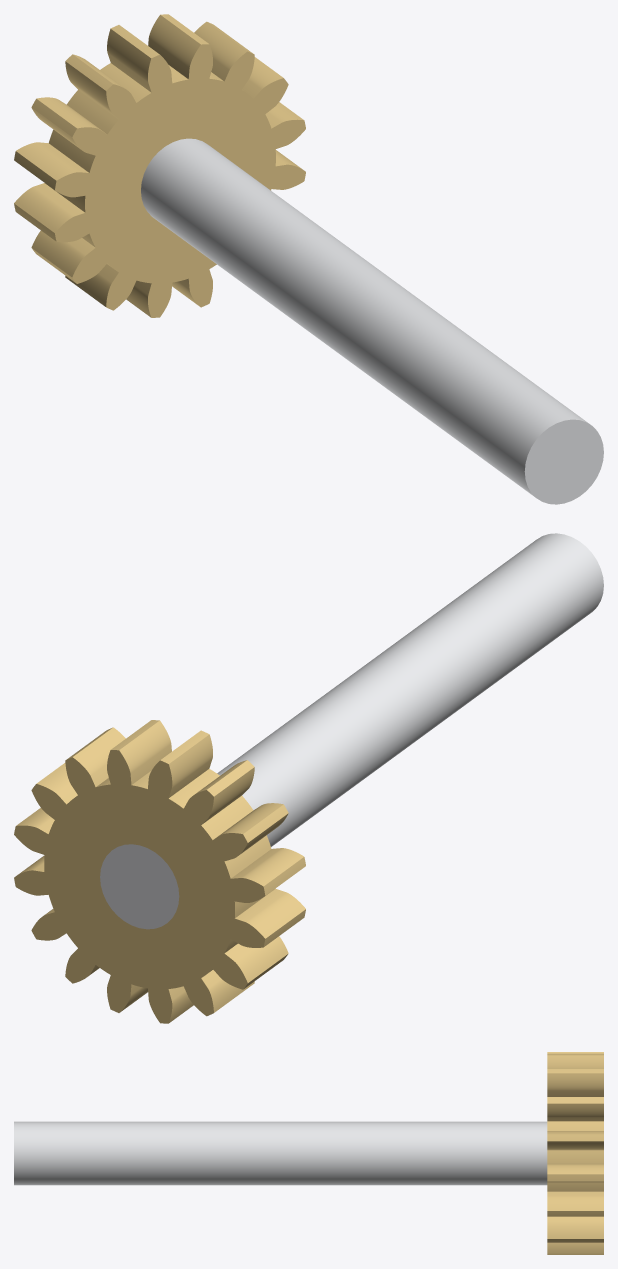
The model's file is sun.glb.
3 renders of one model, top to bottom at view 1: azimuth 30°, elevation 25°; view 2: azimuth 150°, elevation 25°; view 3: azimuth 270°, elevation 25°, orthographic. The views are drawn at different scales.
Visible parts, largest first — view 1: polished_1, gear_sun_0; view 2: gear_sun_0, polished_1; view 3: polished_1, gear_sun_0.
Part boxes in pixels (box(x1,y1,x2,y2)): polished_1: box(141, 138, 603, 504); gear_sun_0: box(14, 14, 305, 317); gear_sun_0: box(14, 720, 305, 1023); polished_1: box(100, 533, 603, 929); polished_1: box(14, 1121, 547, 1185); gear_sun_0: box(547, 1052, 603, 1254).
Size of the model in its own units: 0.0888 by 0.0888 by 0.26.
